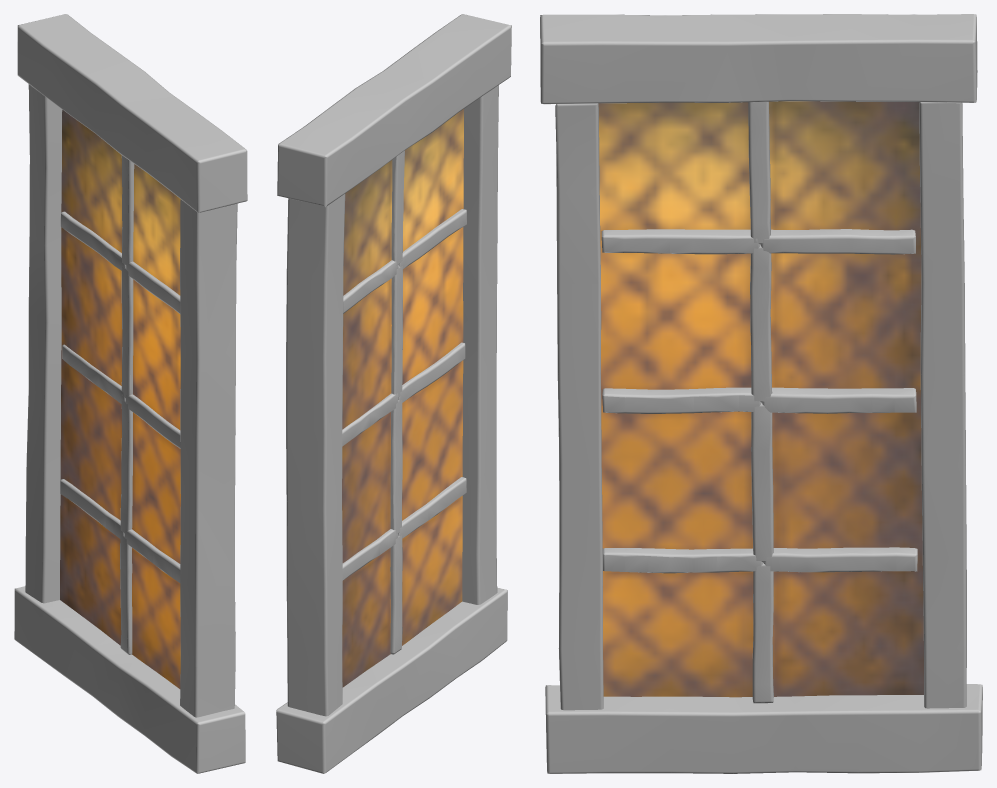
File: SM_Window-Single-C.fbx
3 views of the same model, side by side, from view 1: azimuth 30°, elevation 25°; view 2: azimuth 150°, elevation 25°; view 3: azimuth 270°, elevation 25° (orthographic). The views are drawn at different scales.
Parts seen in each view (by area): view 1: SM_Window-Single-C_LOD0; view 2: SM_Window-Single-C_LOD0; view 3: SM_Window-Single-C_LOD0.
Part boxes in pixels (x1,y1,x2,y2): SM_Window-Single-C_LOD0: [14, 14, 247, 773]; SM_Window-Single-C_LOD0: [276, 14, 511, 773]; SM_Window-Single-C_LOD0: [540, 14, 982, 773].
Bounding box in the file's own units: 10.6 × 64.67 × 118.
2 materials, 1 textured.
